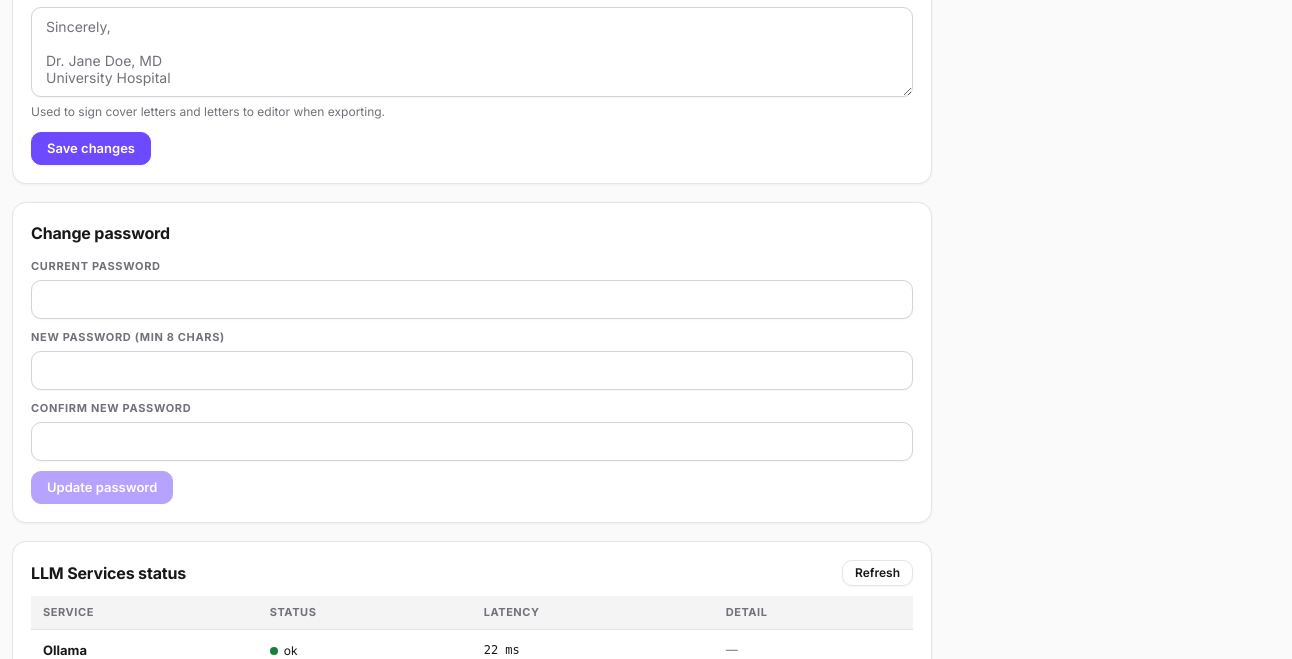
Test: SettingsPage › blocks password change when confirmation does not match
(page scrolled)
Type "current-password" into the password field below "Current password". click: (472, 299)
box: [31, 280, 913, 319]
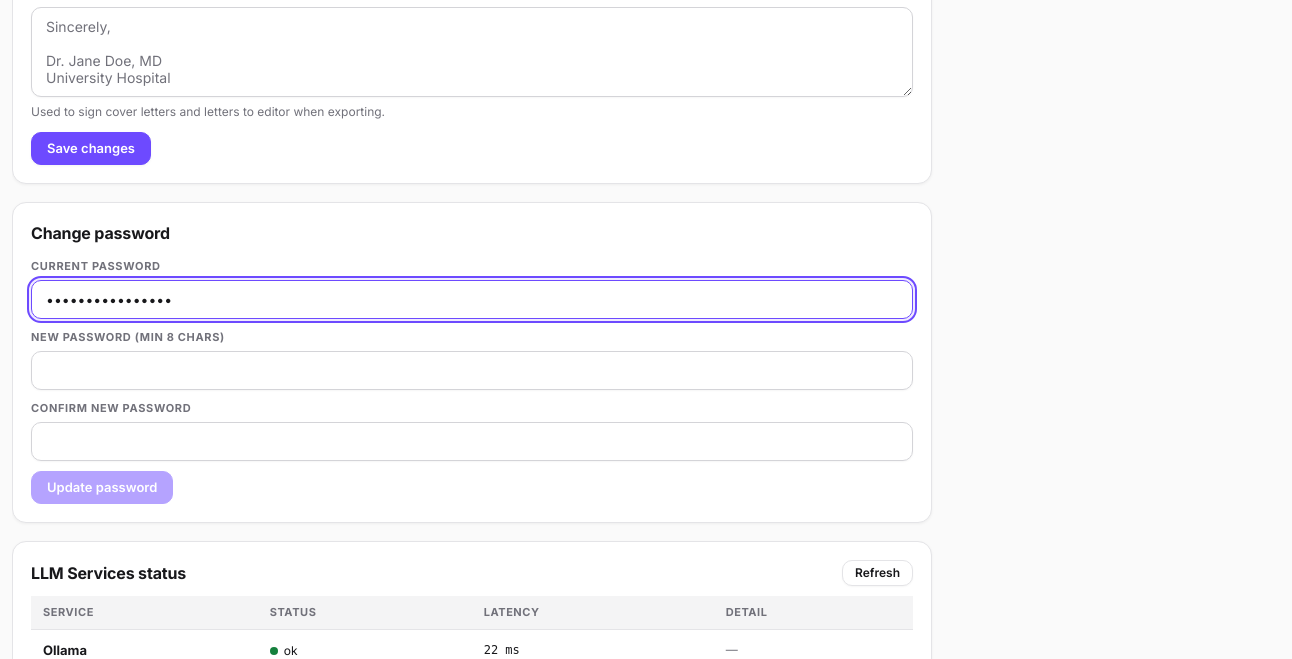
Type "new-password" into the password field below "New password (min 8 chars)". click: (472, 370)
box: [31, 351, 913, 390]
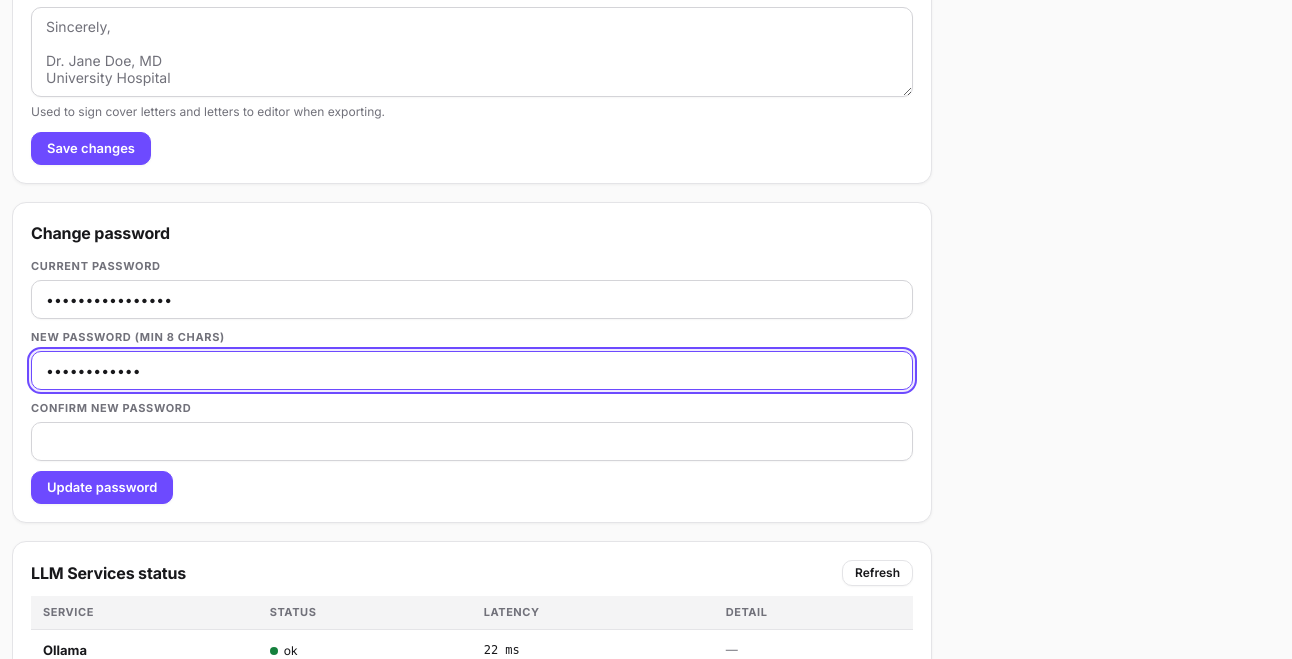
Type "different-password" into the password field below "Confirm new password". click: (472, 442)
box: [31, 422, 913, 461]
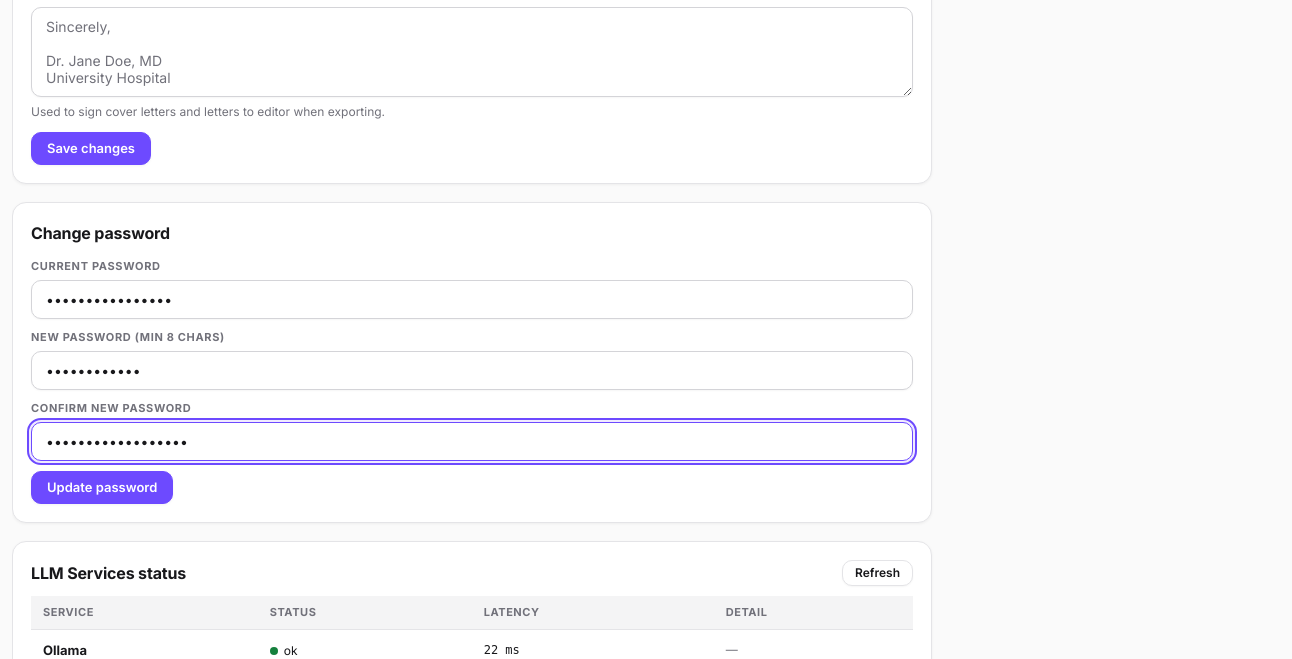
Click the button "Update password". click: (102, 488)
box: [31, 471, 173, 504]
(page scrolled)
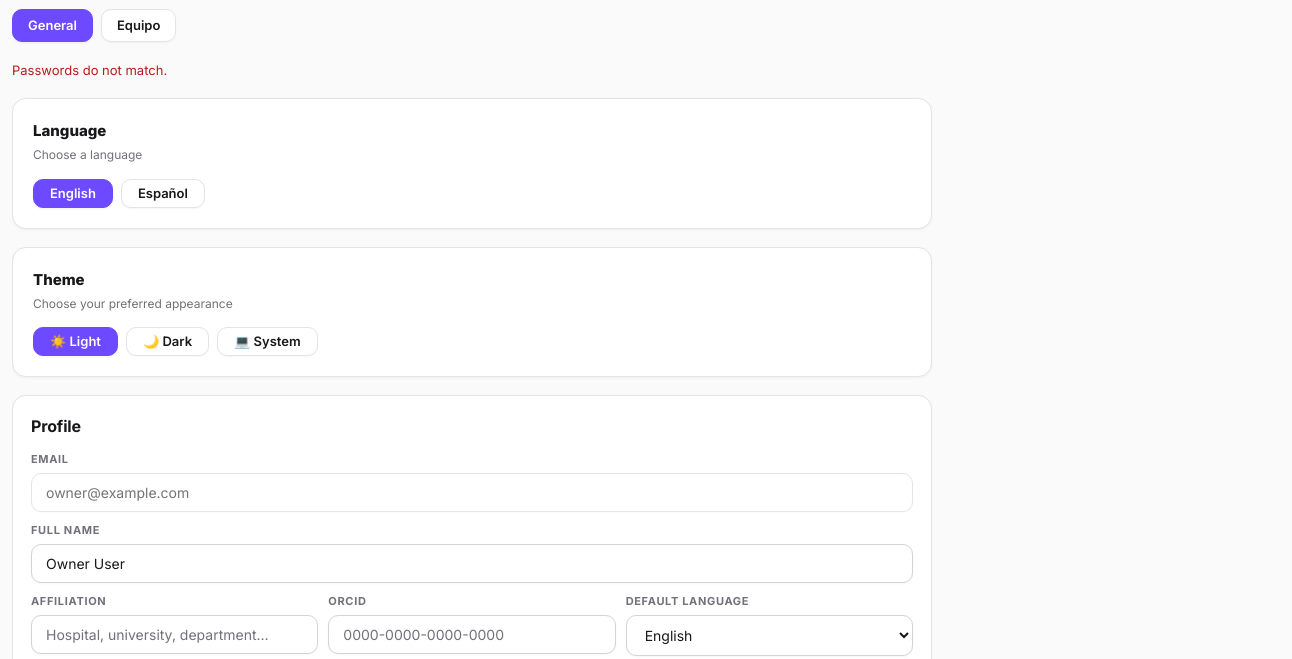
Expected: the text "Passwords do not match." is shown, [12, 62, 167, 78]
